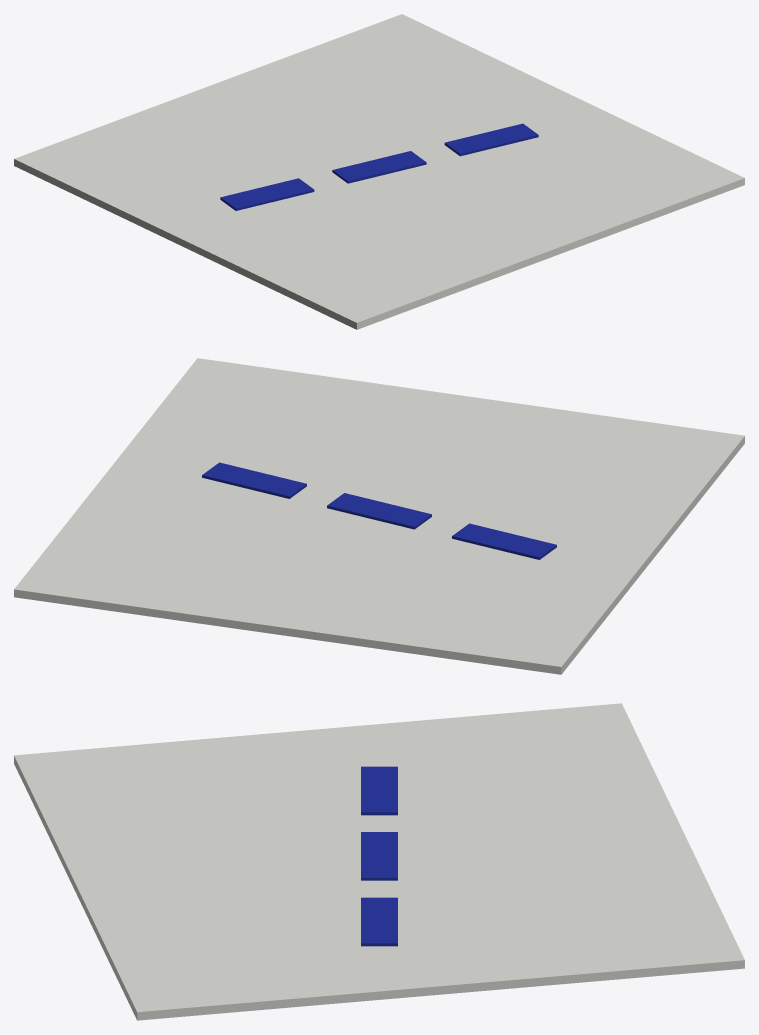
Rendered from combo_napkin.glb.
3 renders of one model, top to bottom at view 1: azimuth 30°, elevation 25°; view 2: azimuth 150°, elevation 25°; view 3: azimuth 270°, elevation 25°, orthographic. The views are drawn at different scales.
Parts seen in each view (by area): view 1: napkin_napkin, numbers_pen_ink; view 2: napkin_napkin, numbers_pen_ink; view 3: napkin_napkin, numbers_pen_ink.
Part boxes in pixels (<box>): napkin_napkin: <box>14,14,744,329</box>; numbers_pen_ink: <box>220,123,538,210</box>; napkin_napkin: <box>14,358,744,674</box>; numbers_pen_ink: <box>202,462,556,559</box>; napkin_napkin: <box>14,703,744,1020</box>; numbers_pen_ink: <box>361,766,397,946</box>.
Size of the model in its own units: 0.2357 by 0.004 by 0.2357.
